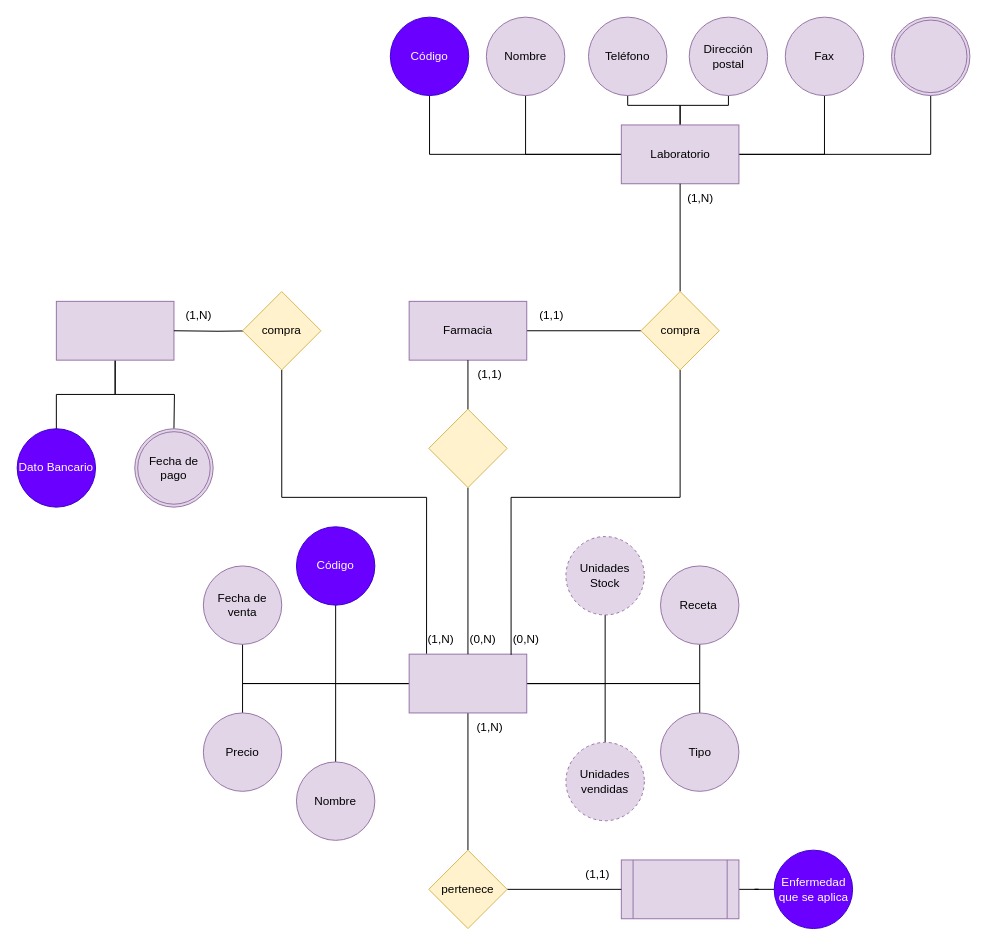
The diagram is 988 pixels wide and 946 high, and some of its shapes have lost their labels. Each missing label, with the box of its shape:
Cliente con Crédito: (55, 300, 174, 360)
fabrica: (428, 408, 507, 488)
Familia: (620, 859, 739, 919)
Medicamento: (408, 653, 527, 713)
Persona de Contacto: (891, 16, 970, 96)
